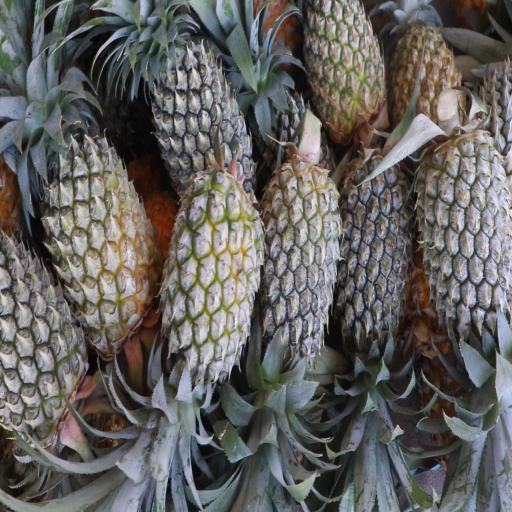------------------------------: (39, 126, 155, 329), (165, 170, 262, 386), (301, 0, 384, 136), (394, 0, 458, 149)
